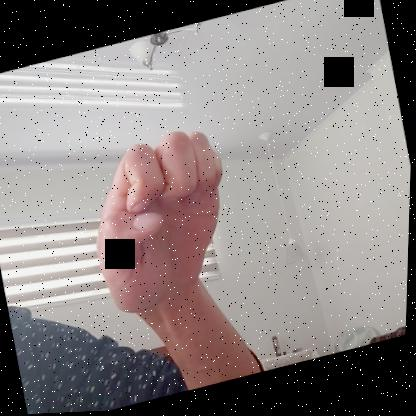E: (75, 121, 253, 322)
